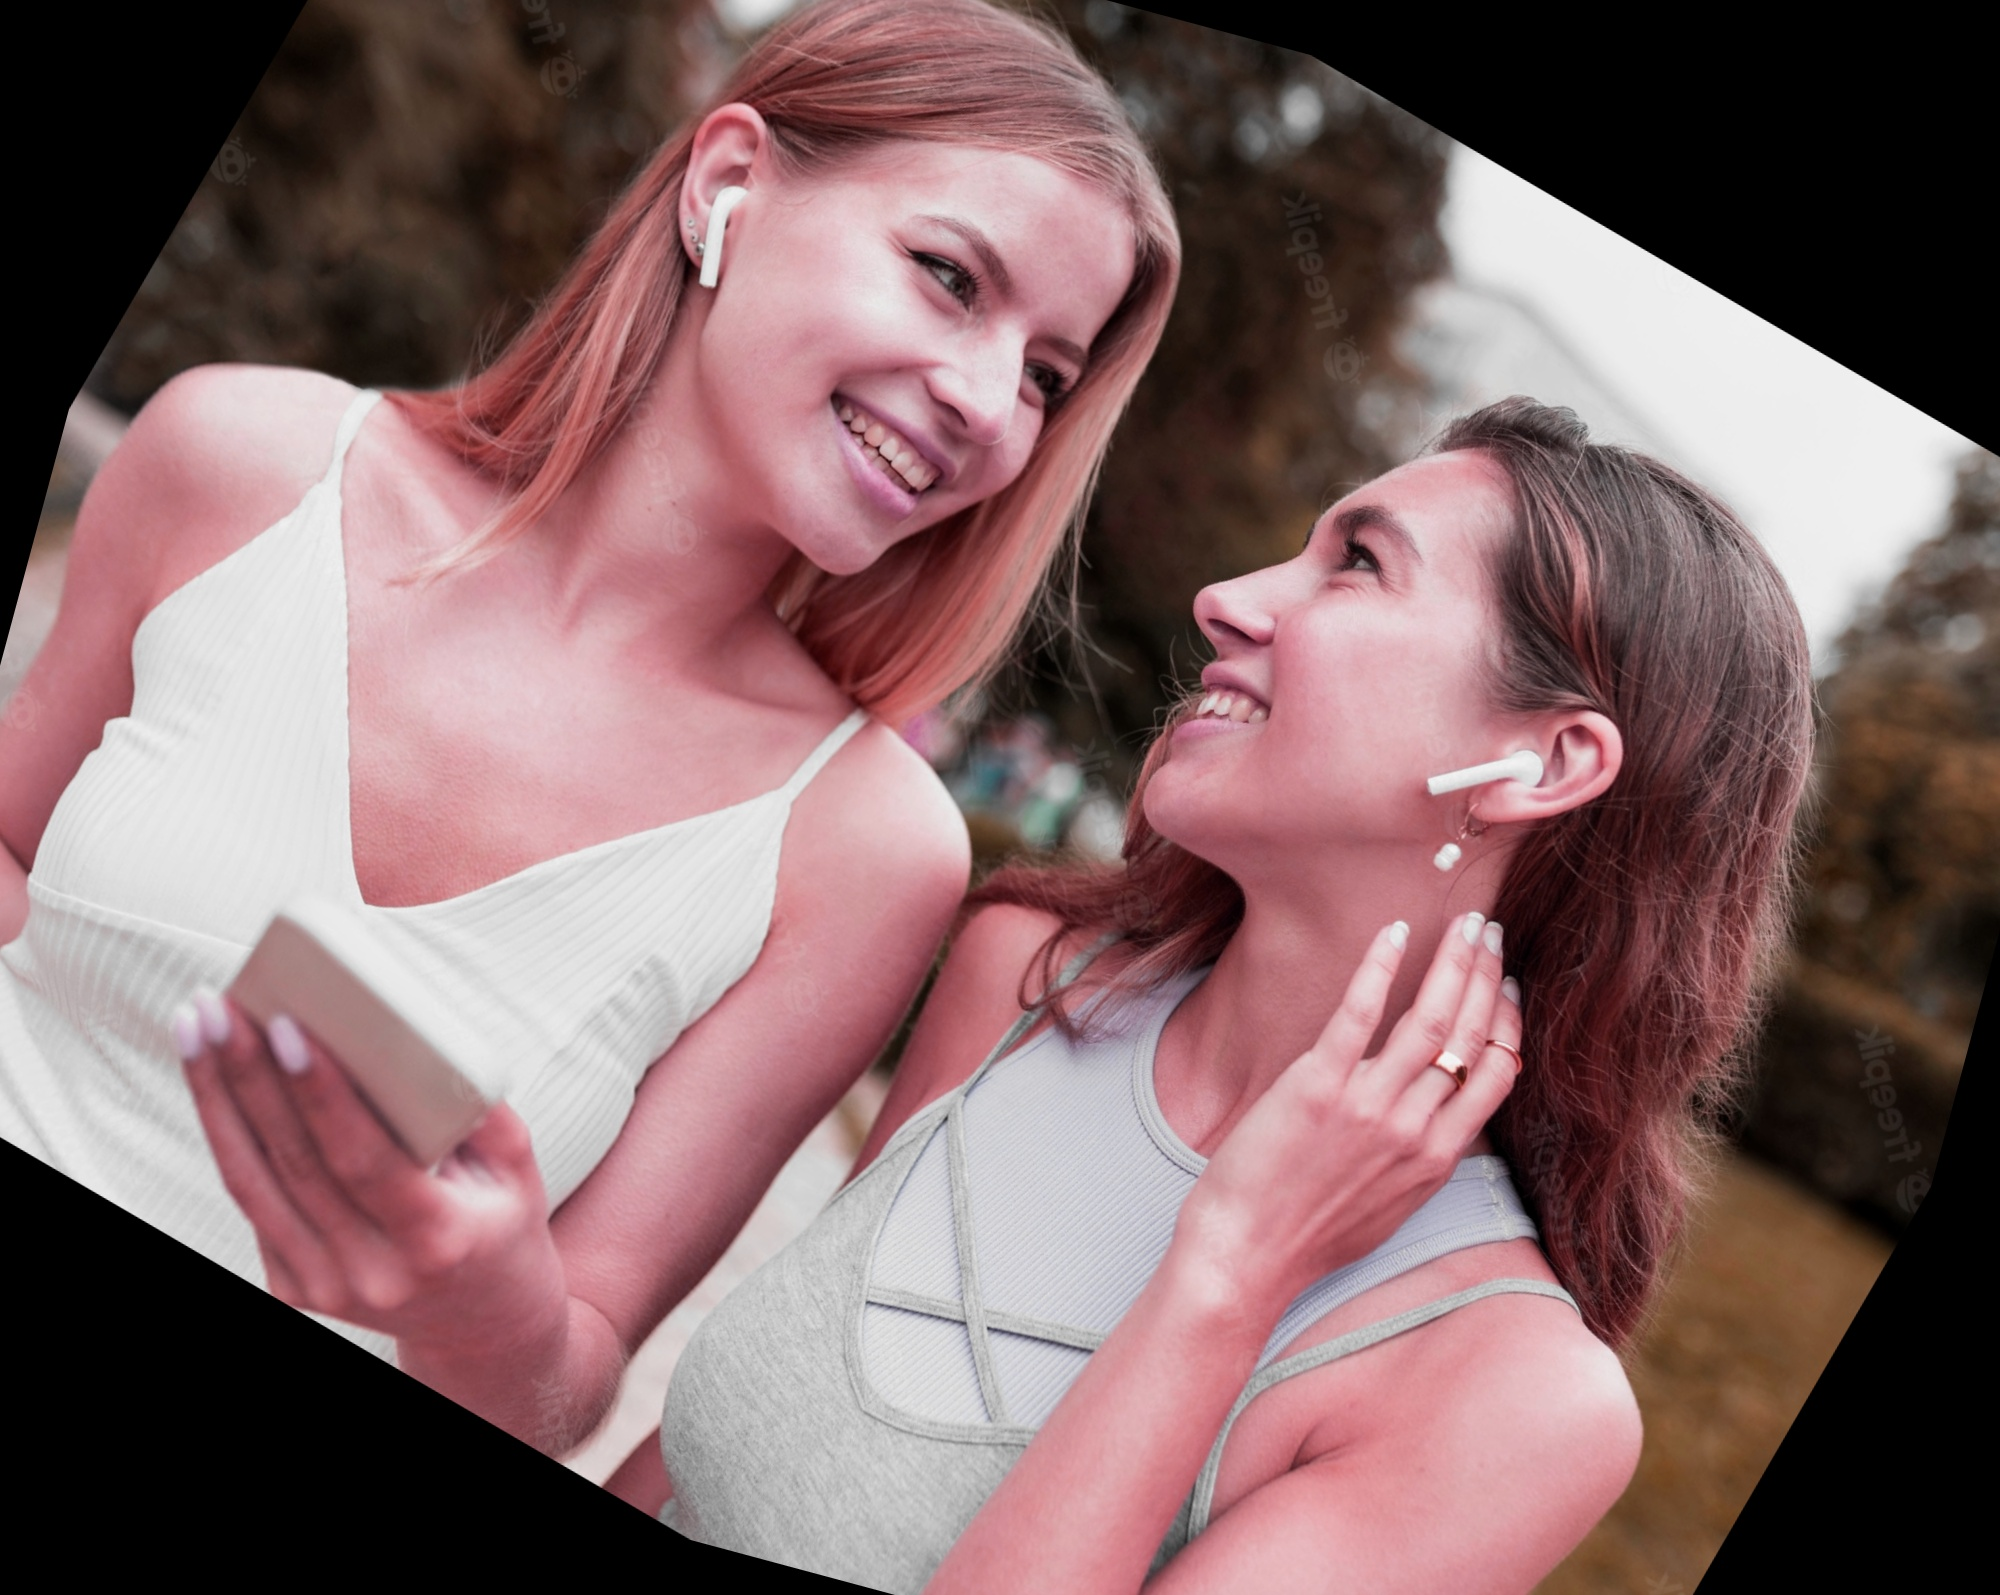earphone: (1437, 658, 1650, 884), (623, 75, 814, 308)
